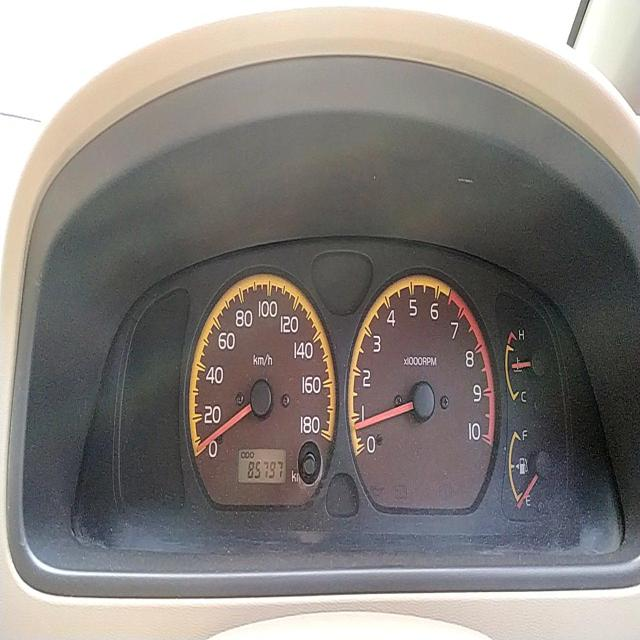odometer: (246, 459, 285, 481)
